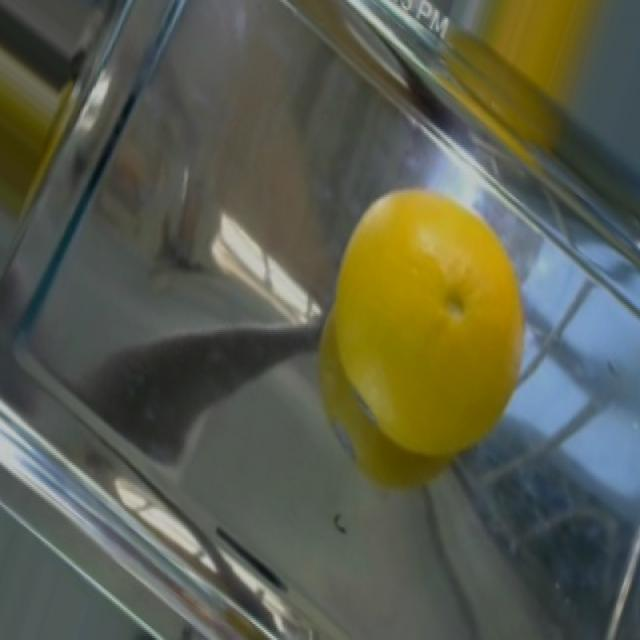Fruit: (306, 175, 534, 507)
